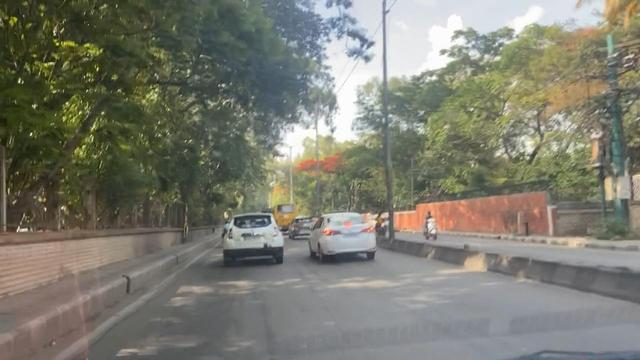LMV: (225, 213, 283, 260), (313, 213, 374, 257), (293, 218, 313, 235)
